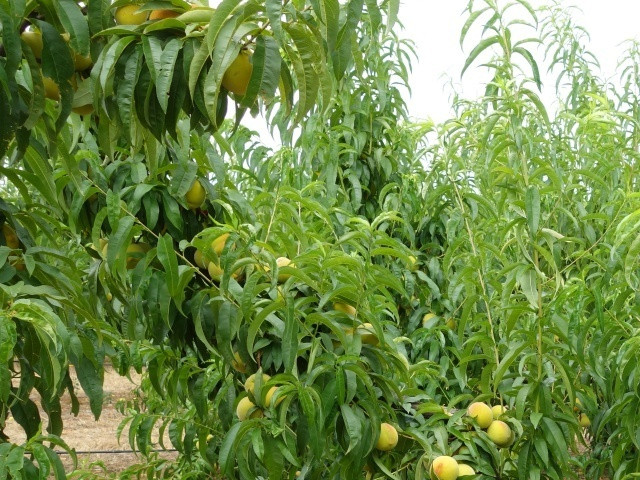peach: (220, 43, 266, 102), (174, 172, 209, 213), (105, 1, 156, 29), (225, 393, 264, 427), (141, 3, 185, 33), (205, 252, 241, 288), (368, 421, 400, 454), (427, 451, 461, 480), (241, 368, 275, 395), (485, 418, 514, 449), (467, 399, 495, 430), (187, 247, 216, 273), (355, 318, 380, 348), (485, 400, 513, 426), (453, 460, 480, 480)
